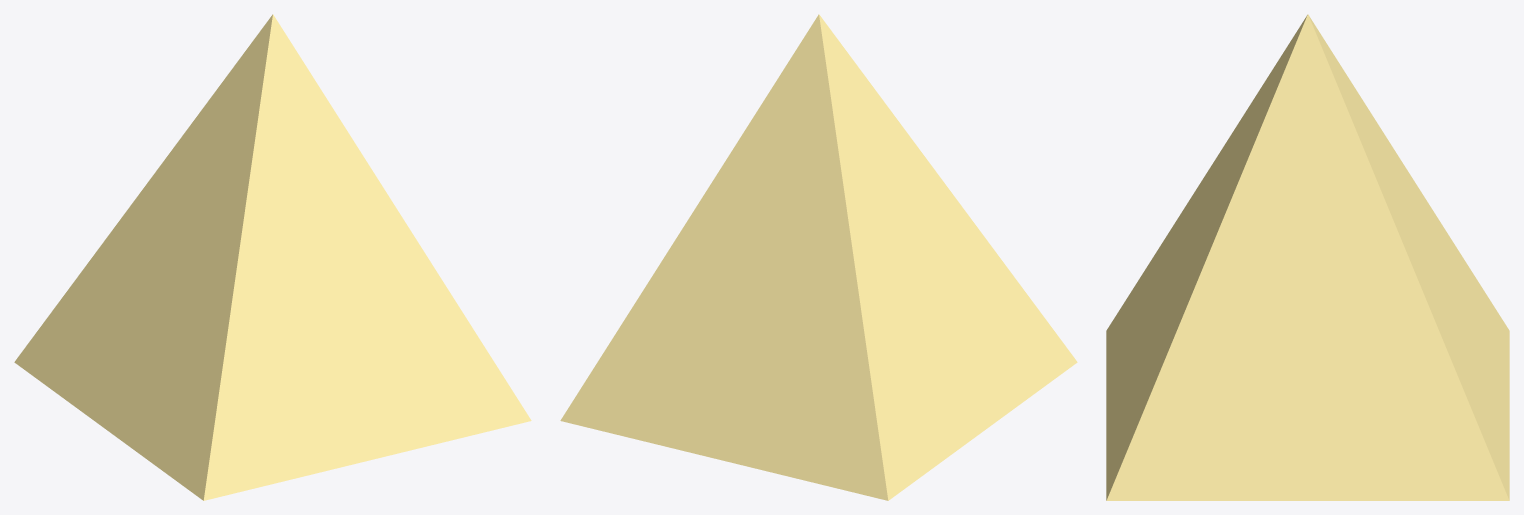
3 renders of one model, left to right at view 1: azimuth 30°, elevation 25°; view 2: azimuth 150°, elevation 25°; view 3: azimuth 270°, elevation 25°, orthographic. The views are drawn at different scales.
Visible parts, largest first — view 1: mesh_id27; view 2: mesh_id27; view 3: mesh_id27.
Boxes of the visible parts, <box> form: mesh_id27: <box>14,14,531,500</box>; mesh_id27: <box>560,14,1077,500</box>; mesh_id27: <box>1106,14,1509,500</box>.
Size of the model in its own units: 0.2178 by 0.2395 by 0.2178.
1 material, 1 textured.
